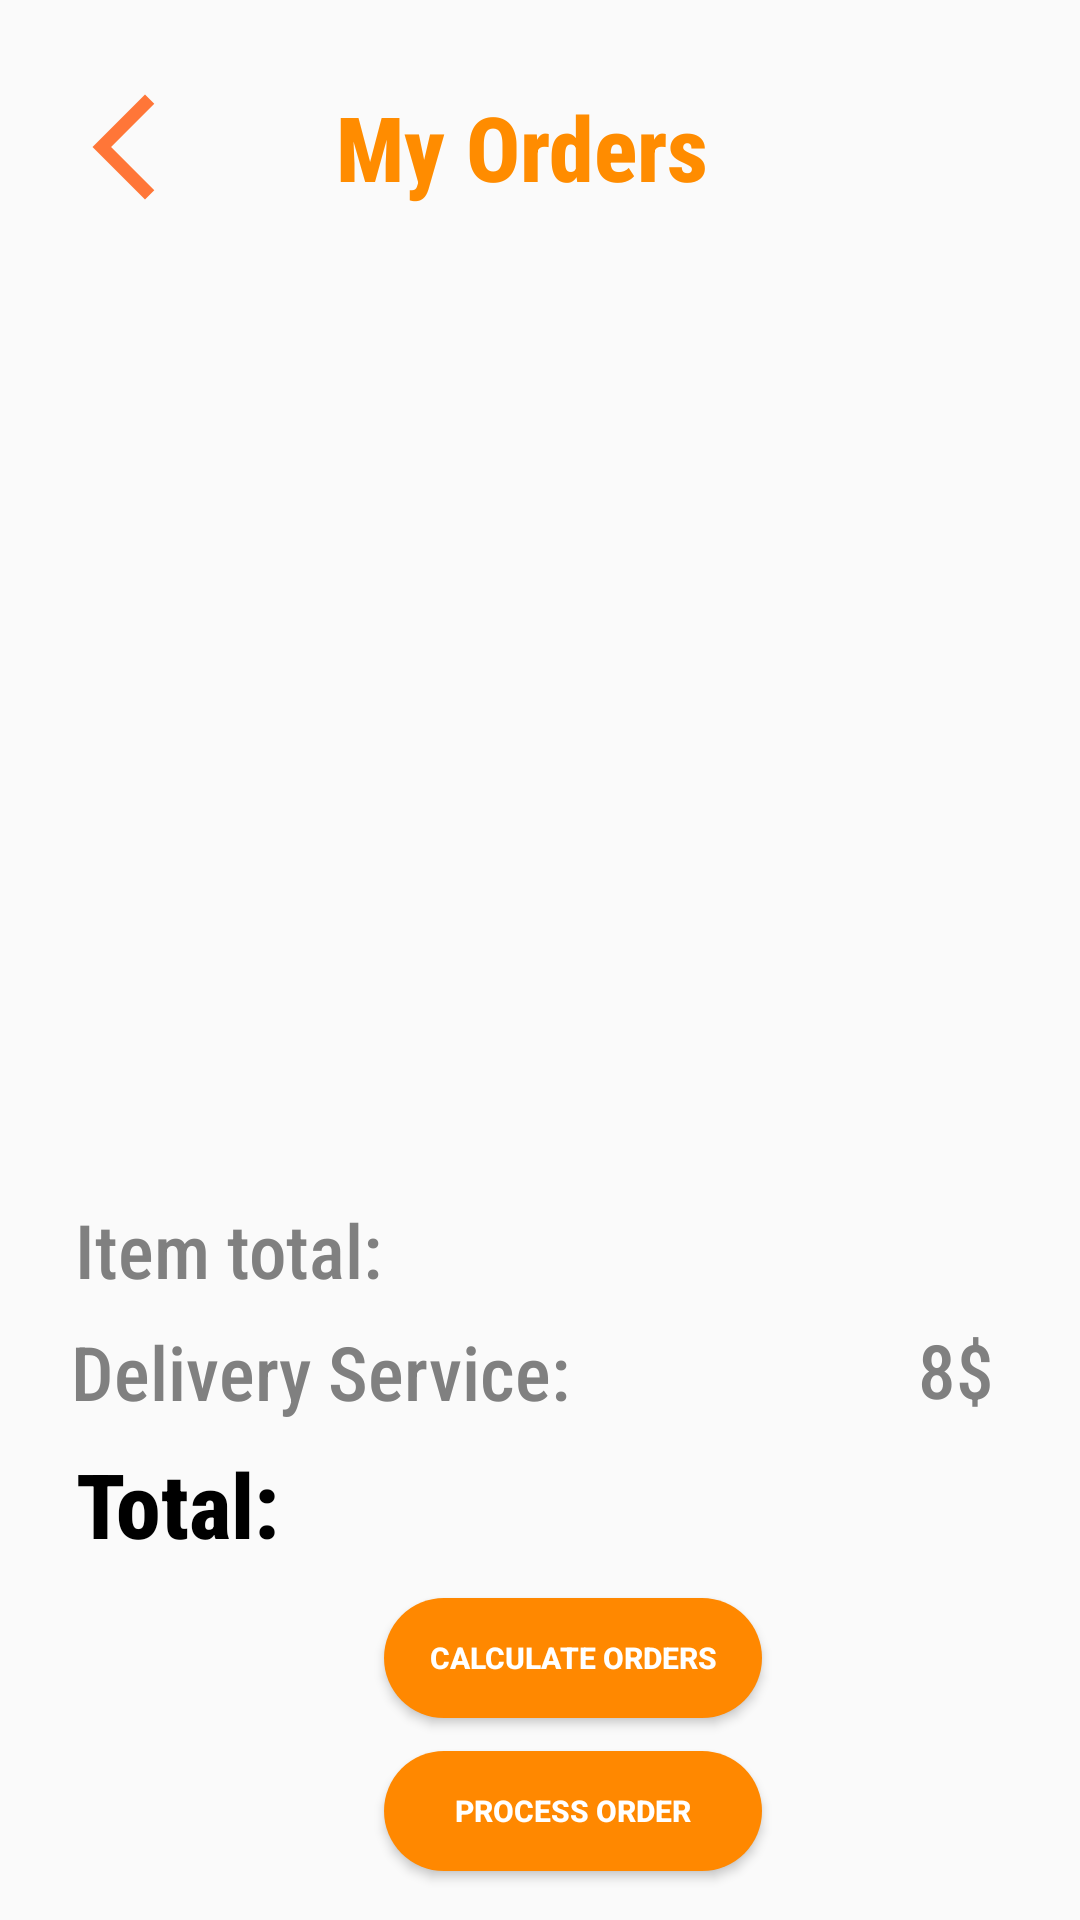

Named icons in this screenshot (1080x1920) and their centers, [x,y]:
back: [123,147]
